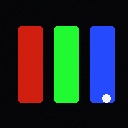0 point: (102, 94, 110, 102)
